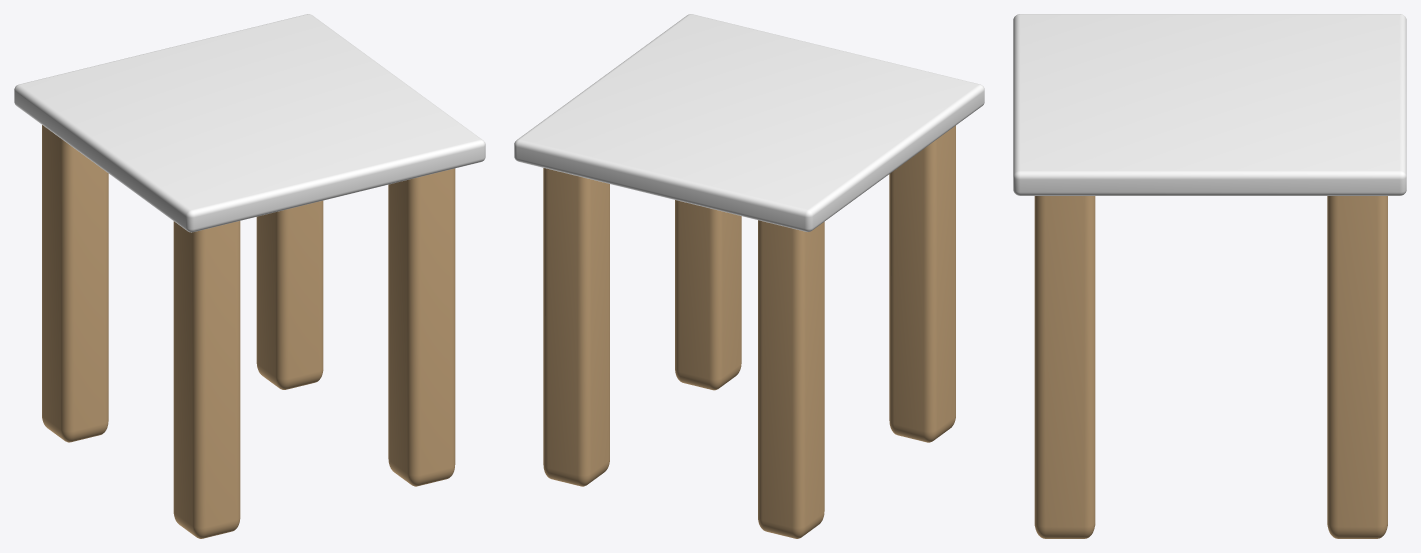
Rendered from simple_square_table_A.glb.
3 views of the same model, side by side, from view 1: azimuth 30°, elevation 25°; view 2: azimuth 150°, elevation 25°; view 3: azimuth 270°, elevation 25° (orthographic). The views are drawn at different scales.
Visible parts, largest first — view 1: simple_square_table_A; view 2: simple_square_table_A; view 3: simple_square_table_A.
Boxes of the visible parts, x1=… form: simple_square_table_A: x1=14, y1=14, x2=485, y2=538; simple_square_table_A: x1=514, y1=14, x2=984, y2=538; simple_square_table_A: x1=1013, y1=14, x2=1406, y2=538.
Size of the model in its own units: 0.78 by 0.8529 by 0.8008.
